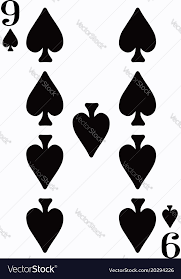nine of spades: (1, 1, 181, 258)
